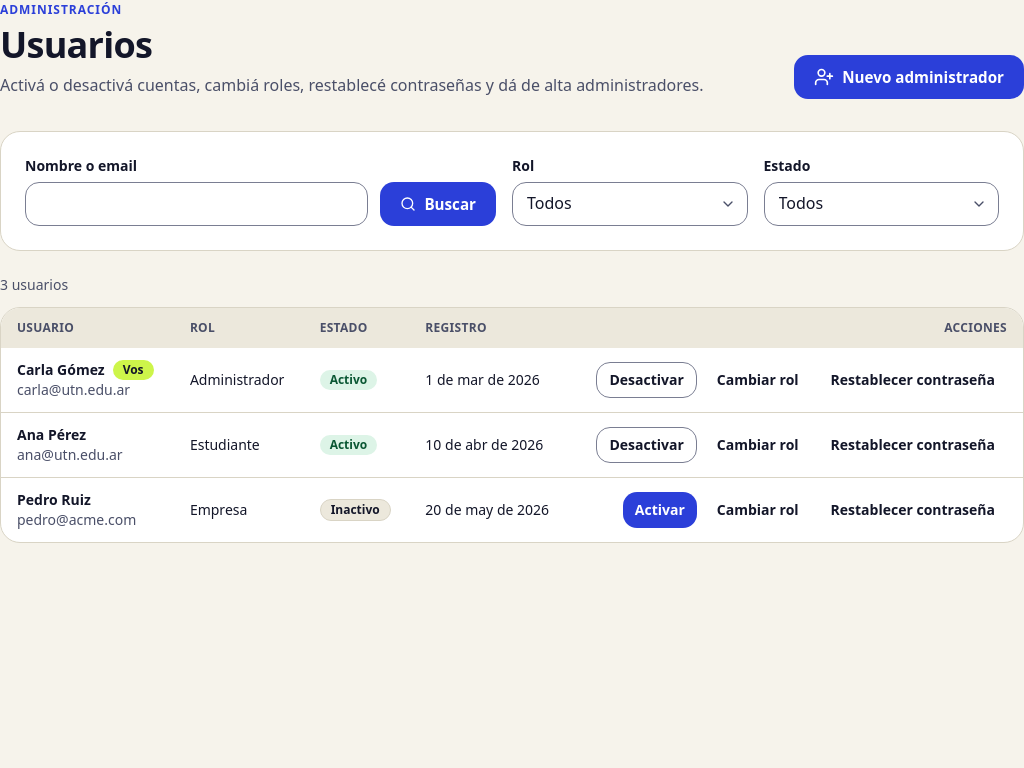
Test case: UsuariosAdminPage › cambia el rol: el diálogo arranca con el rol actual y solo guarda si cambió
Click the button with aria-label "Cambiar rol de Ana Pérez" at {"x": 758, "y": 445}, box [705,427,810,463]
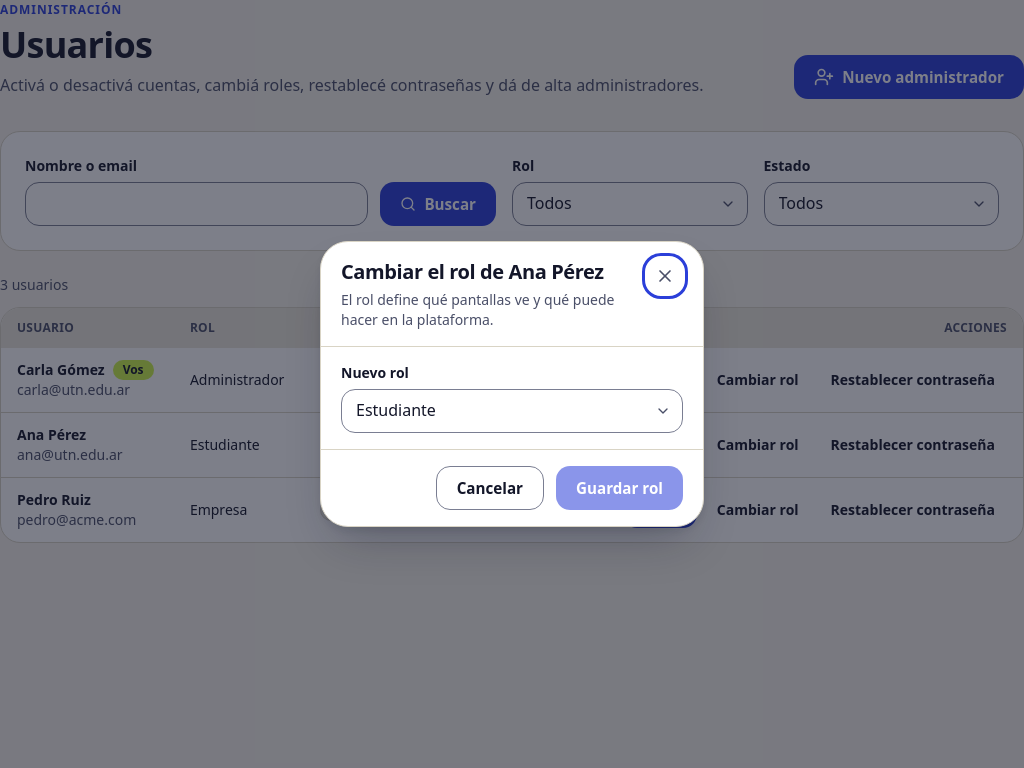
Now the dropdown labelled "Nuevo rol" shows "Estudiante"
Now the button "Guardar rol" is disabled, box [556,466,683,510]
Select "Docente" in the dropdown labelled "Nuevo rol" at {"x": 512, "y": 411}, box [341,389,683,433]
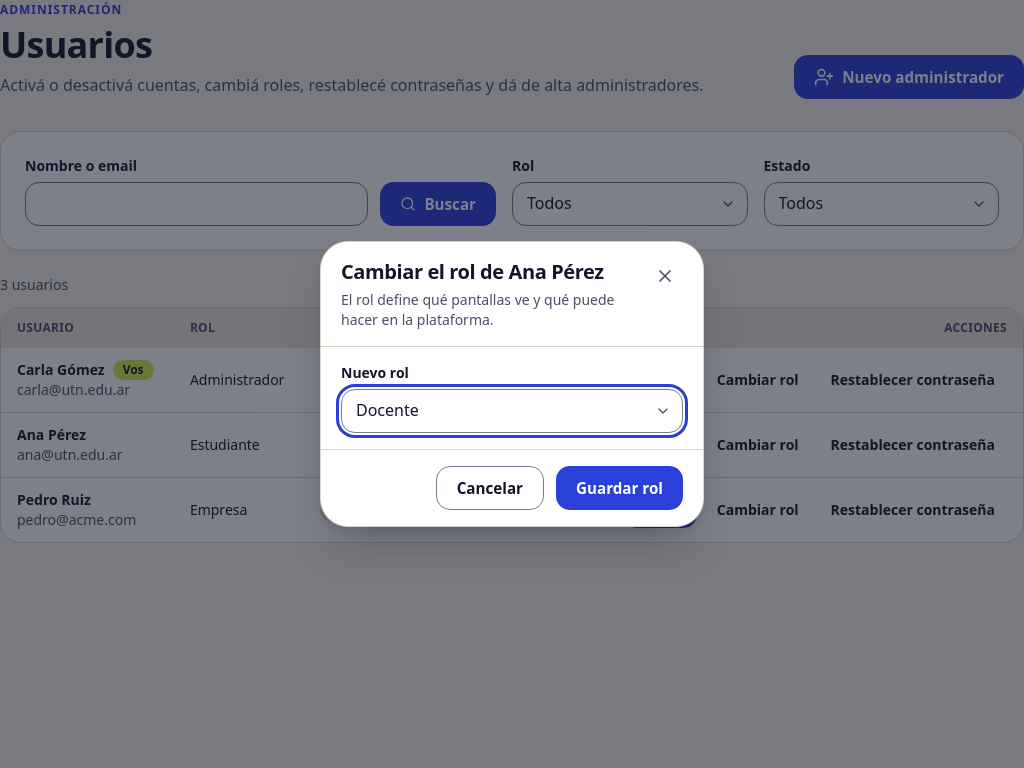
Click the button "Guardar rol" at {"x": 620, "y": 488}, box [556,466,683,510]
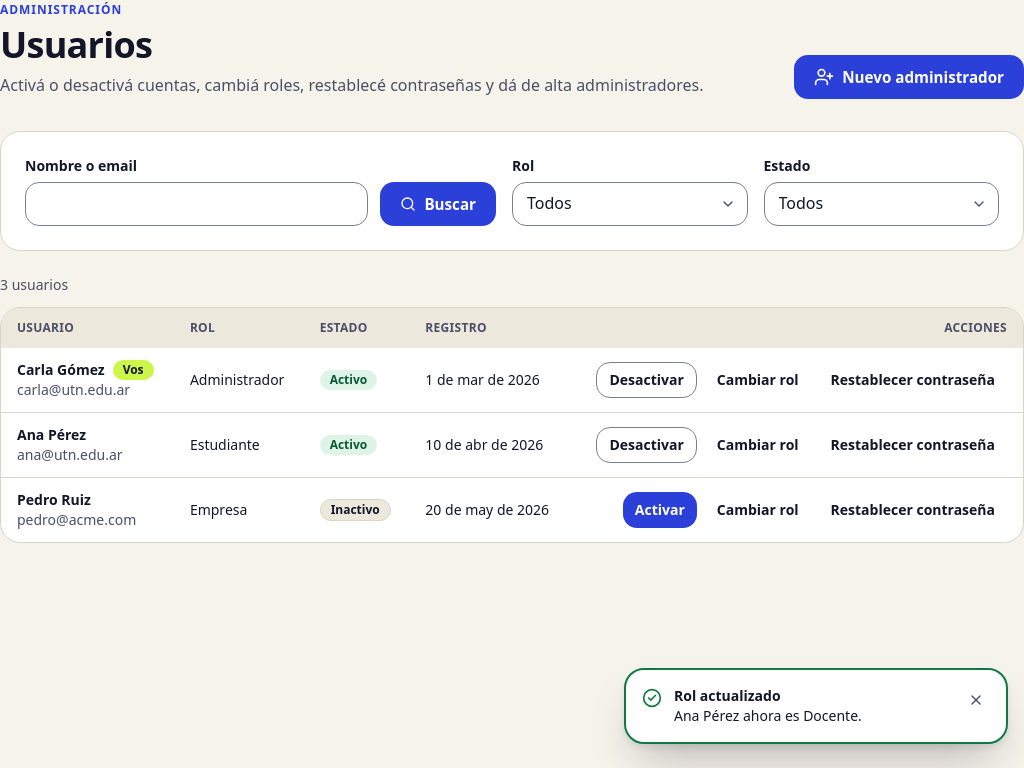
Now the text "Ana Pérez ahora es Docente." is shown, box [674,706,862,725]
